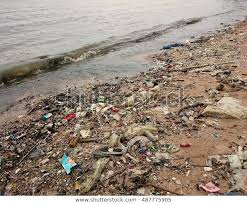garbage: (46, 95, 213, 195), (159, 52, 243, 127)
